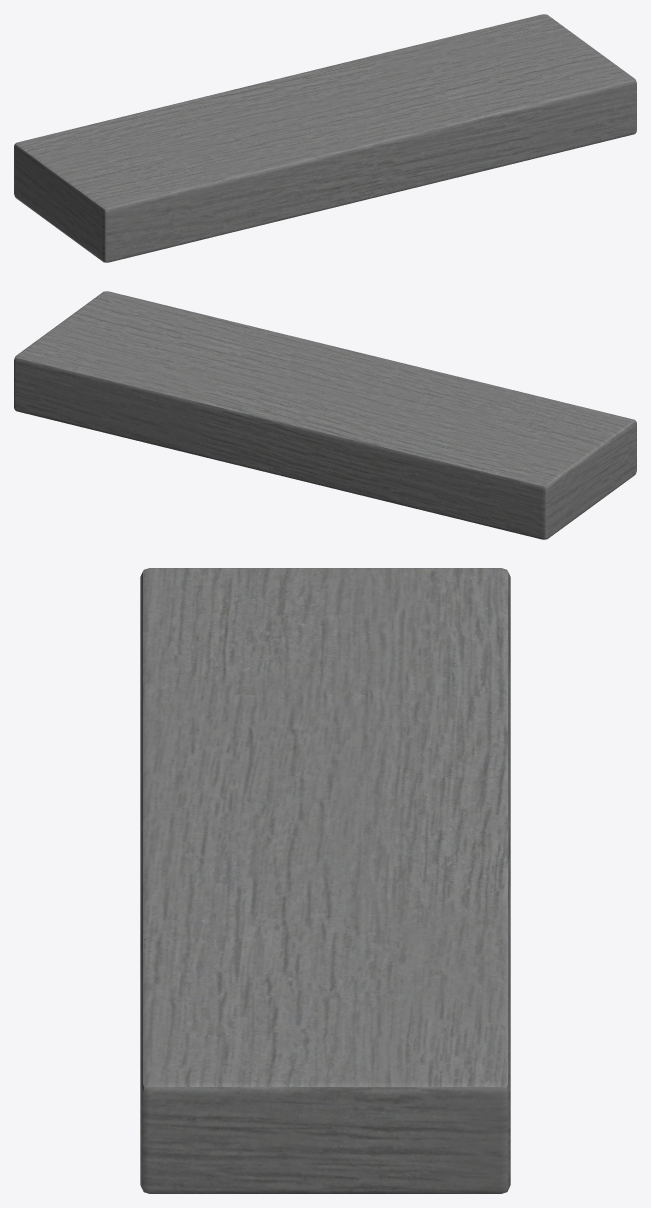
Rendered from woodblock1.obj.
3 views of the same model, one above another, from view 1: azimuth 30°, elevation 25°; view 2: azimuth 150°, elevation 25°; view 3: azimuth 270°, elevation 25° (orthographic). The views are drawn at different scales.
Parts seen in each view (by area): view 1: pCube1; view 2: pCube1; view 3: pCube1.
Boxes of the visible parts, x1,y1,x2,y2 form: pCube1: (14,14,636,262); pCube1: (14,291,636,539); pCube1: (140,568,510,1193).
Size of the model in its own units: 500 by 50 by 150.
Materials: 1 (1 with a texture image).
